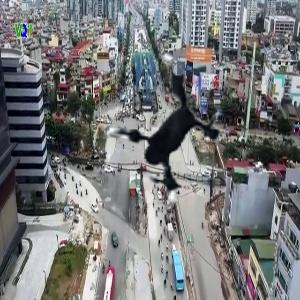drone: (69, 42, 247, 220)
